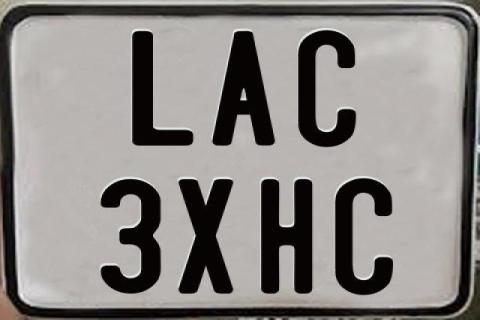0: (98, 178, 162, 296)
A: (209, 29, 274, 145)
C: (332, 178, 396, 298), (298, 31, 359, 151)
H: (261, 177, 318, 293)
L: (132, 29, 194, 145)
X: (178, 179, 233, 295)
